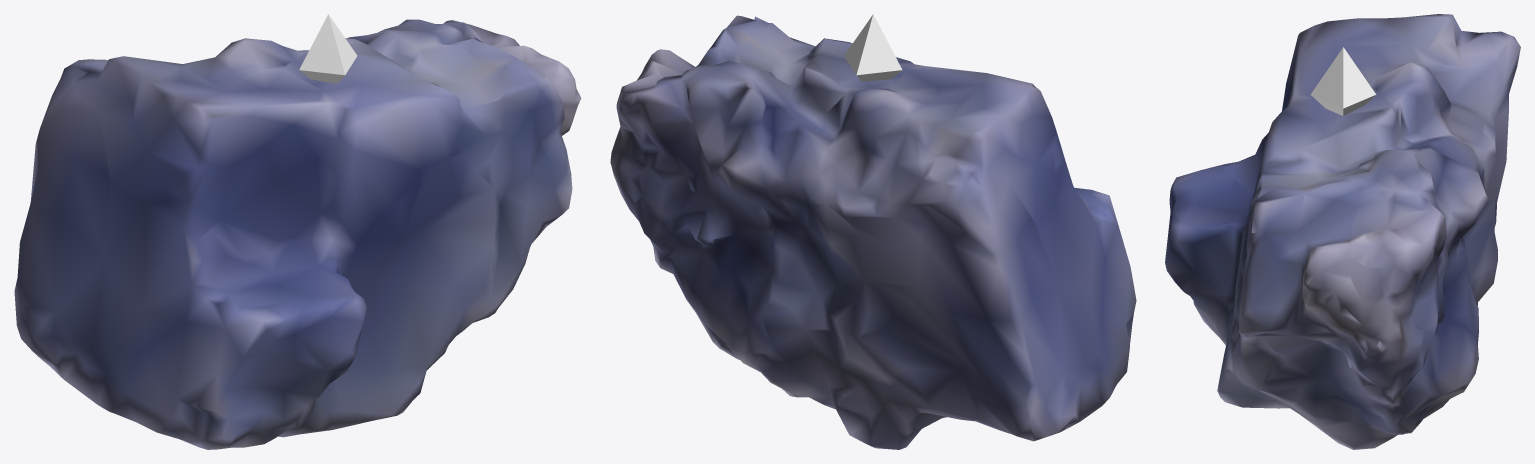
Rendered from glow-crystal.glb.
The picture shows the model from 3 angles, left to right: view 1: azimuth 30°, elevation 25°; view 2: azimuth 150°, elevation 25°; view 3: azimuth 270°, elevation 25°; orthographic projection. The views are drawn at different scales.
Visible parts, largest first — view 1: body, flame; view 2: body, flame; view 3: body, flame.
Part boxes in pixels (box(x1,y1,x2,y2)): body: box(14, 19, 581, 449); flame: box(299, 14, 357, 83); body: box(610, 15, 1136, 449); flame: box(844, 14, 902, 81); body: box(1165, 14, 1520, 449); flame: box(1310, 47, 1376, 115).
Size of what is drawn, in the model's own units: 1.15 by 0.892 by 0.7572.
